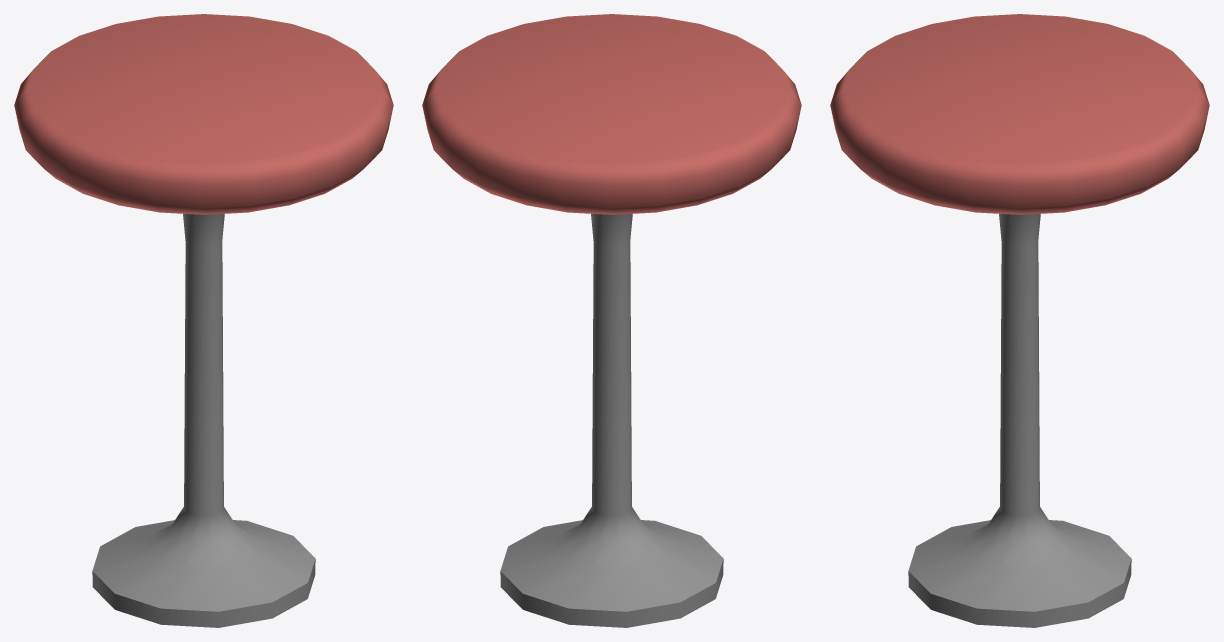
The model's file is chair_kitchen.fbx.
The picture shows the model from 3 angles, left to right: view 1: azimuth 30°, elevation 25°; view 2: azimuth 150°, elevation 25°; view 3: azimuth 270°, elevation 25°; orthographic projection.
Visible parts, largest first — view 1: chair_kitchen; view 2: chair_kitchen; view 3: chair_kitchen.
Part boxes in pixels (x1=…): chair_kitchen: x1=14, y1=14, x2=393, y2=627; chair_kitchen: x1=422, y1=14, x2=801, y2=627; chair_kitchen: x1=830, y1=14, x2=1209, y2=627.
Bounding box in the file's own units: 51.15 × 73.23 × 51.15.
